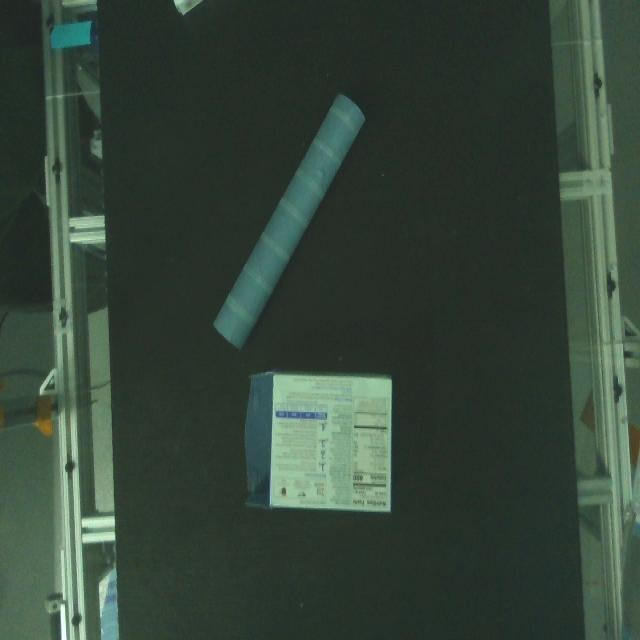paper: (208, 90, 376, 353), (237, 371, 406, 519)
